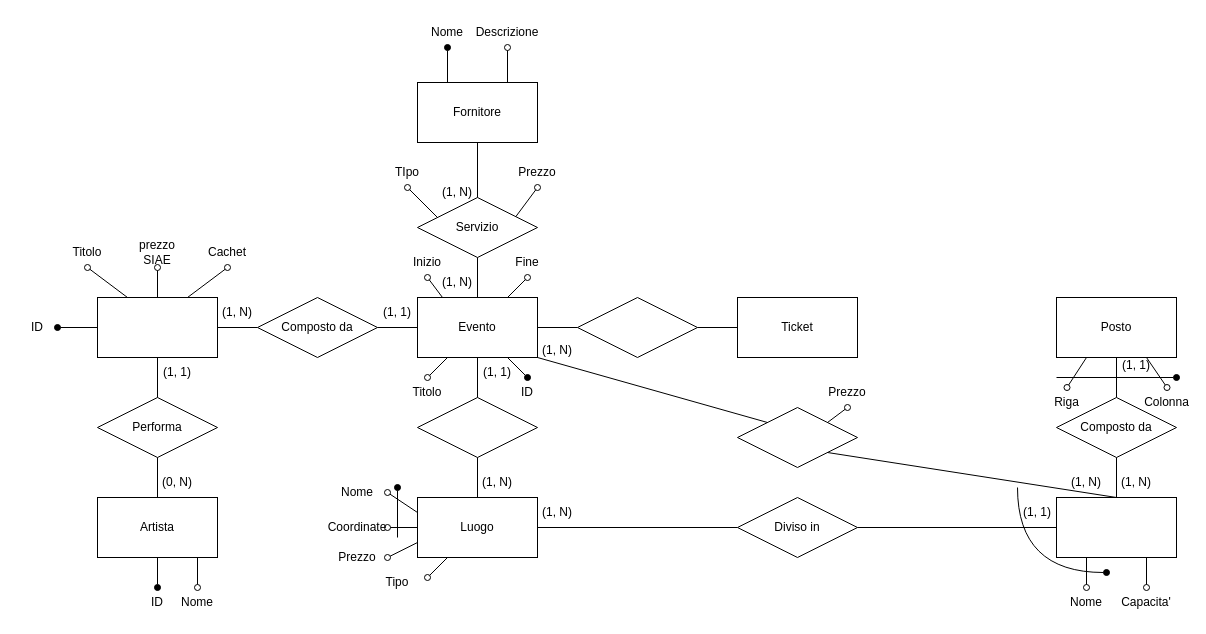
Image size: 1206x634. Some labels were removed from this diagram. The centre of each missing label's shape, as x and y in pixels:
"Costo" belongs at (x=797, y=437).
"Settori" belongs at (x=1116, y=527).
"Si tiene in" belongs at (x=477, y=427).
"Spettacolo" belongs at (x=157, y=327).
"Vendita" belongs at (x=637, y=327).
